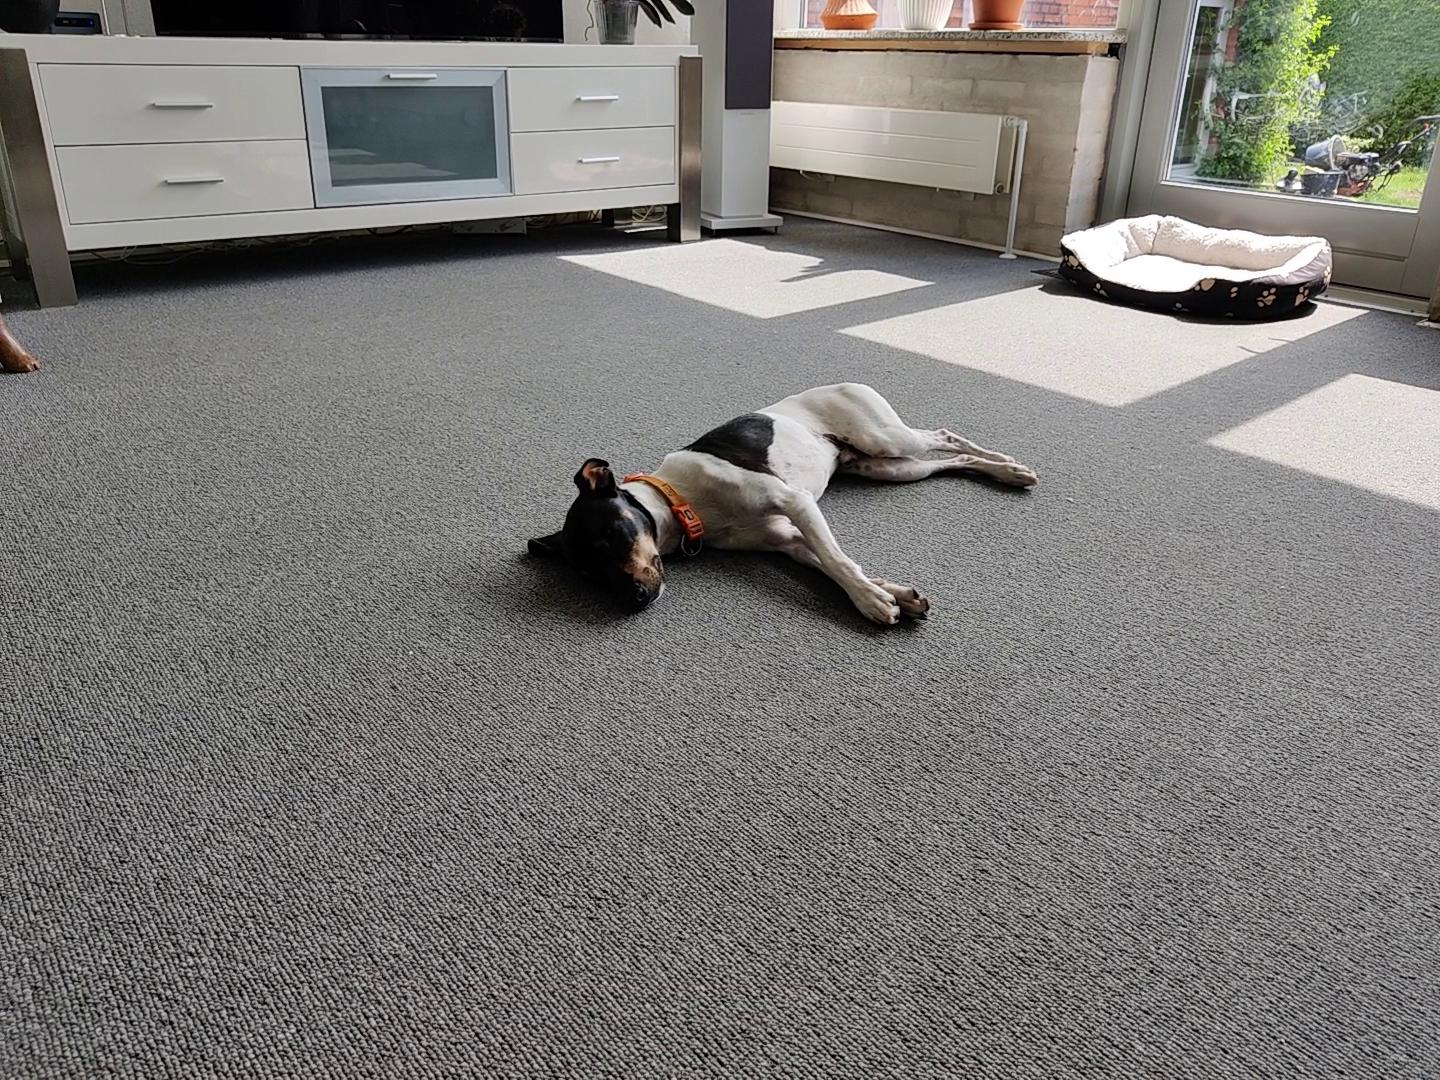Dog: (518, 378, 1045, 635)
